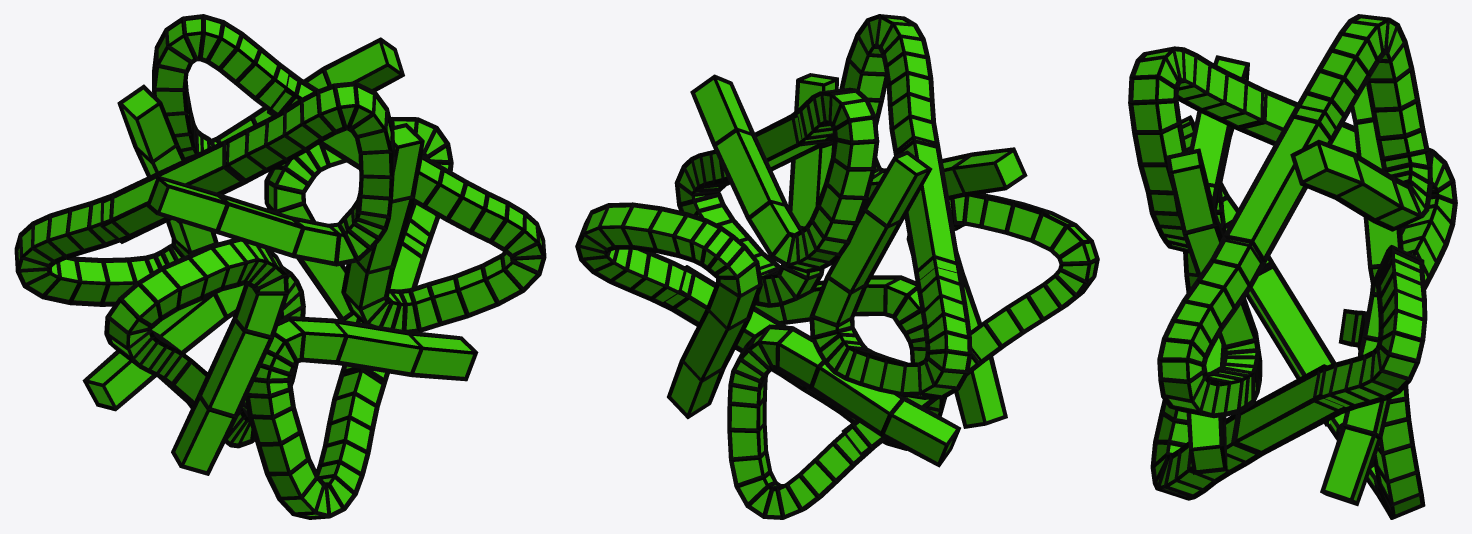
File: Hemoglobin.fbx
3 renders of one model, left to right at view 1: azimuth 30°, elevation 25°; view 2: azimuth 150°, elevation 25°; view 3: azimuth 270°, elevation 25°, orthographic. The views are drawn at different scales.
Visible parts, largest first — view 1: NurbsPath_001; view 2: NurbsPath_001; view 3: NurbsPath_001.
Part boxes in pixels (<box>): NurbsPath_001: <box>14,14,546,519</box>; NurbsPath_001: <box>575,14,1099,519</box>; NurbsPath_001: <box>1128,14,1457,519</box>.
Bounding box in the file's own units: 9.98 × 9.78 × 6.24.
